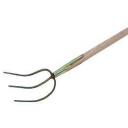fork: (2, 20, 128, 111)
